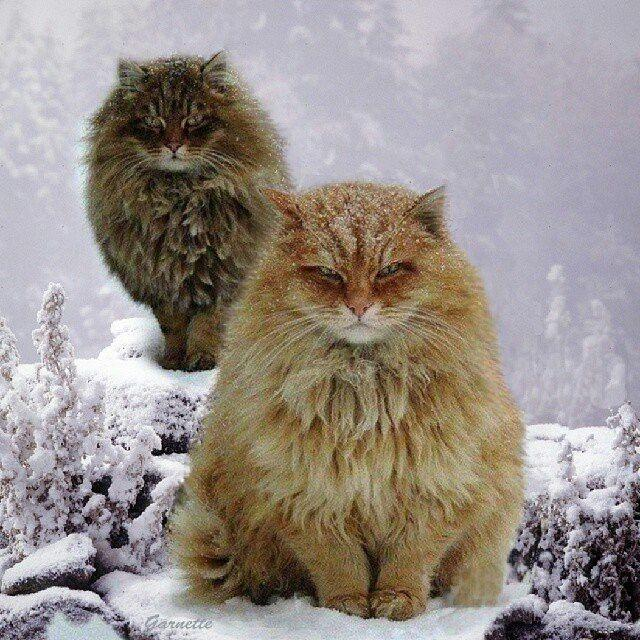cat: (170, 184, 524, 619), (86, 54, 289, 370)
